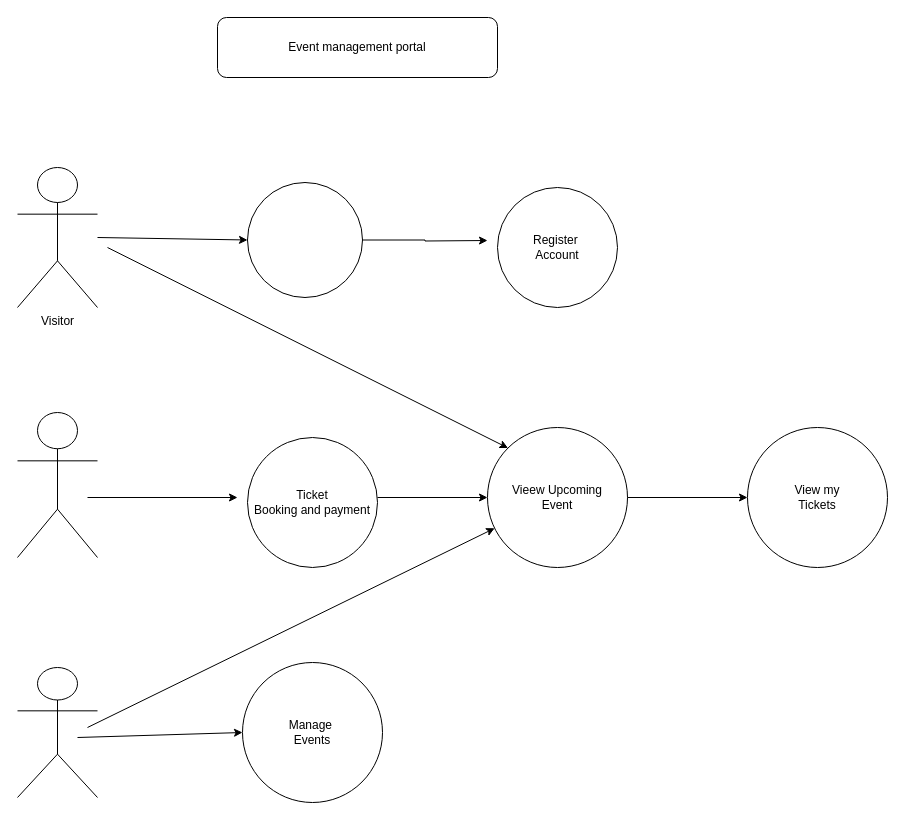
Image size: 905x836. Some labels were removed from this diagram. The shapes that lost their labels are listed below. From the top down, each one's box as (x1, y1, x2, y2) in pixels, then its label:
(246, 182, 362, 298): Login
(16, 412, 98, 558): Registred User
(16, 666, 98, 798): Admin
